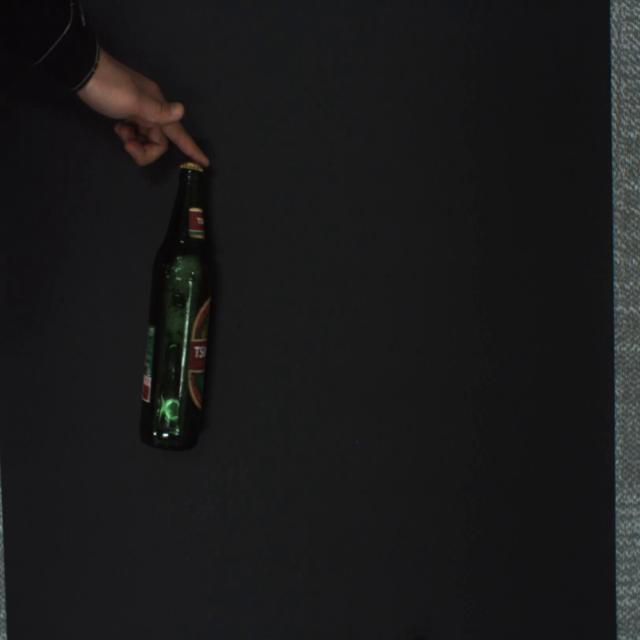beer-bottle: (140, 161, 213, 451)
